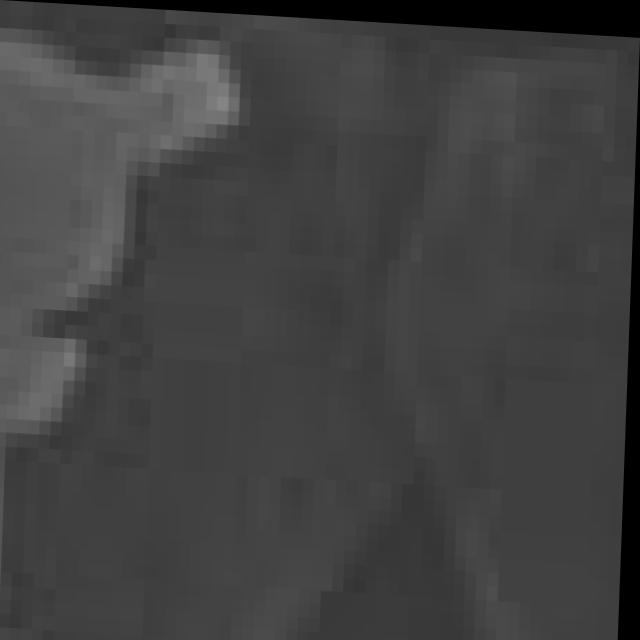fracture: (0, 7, 631, 640)
